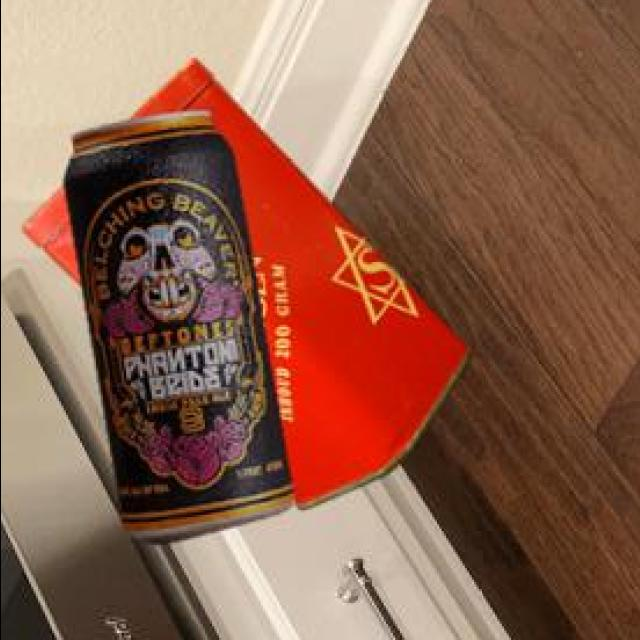logam: (20, 64, 470, 514), (59, 115, 289, 548)
